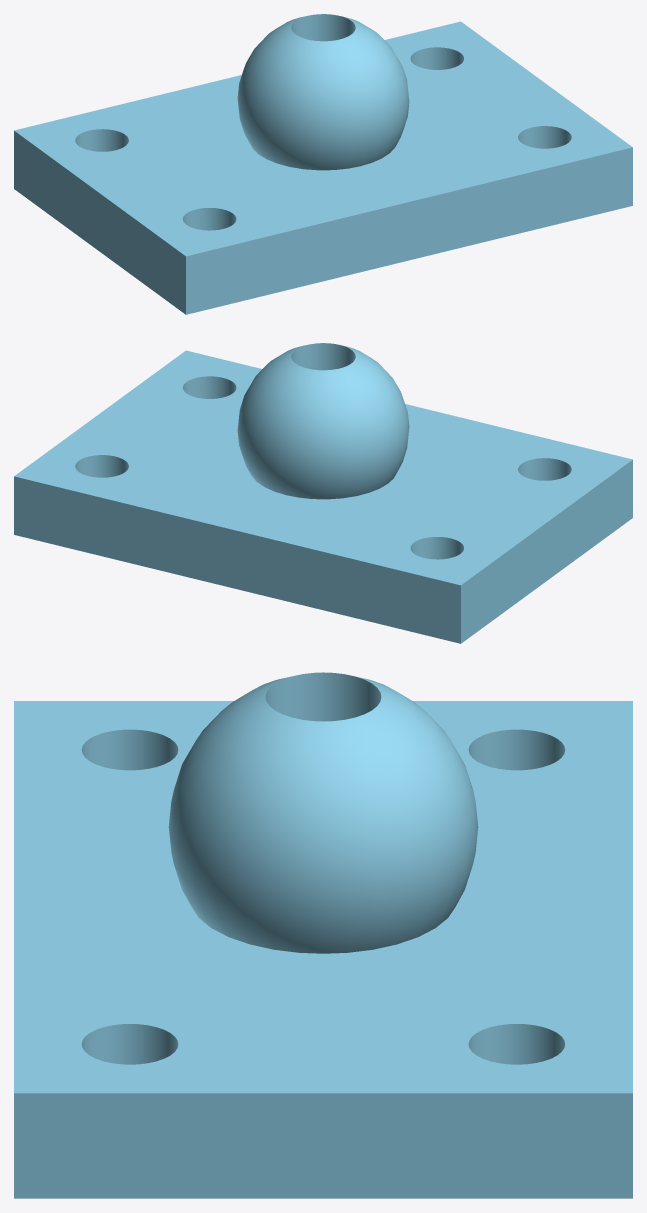
Rendered from boolean_mount_chord_0p1_angle_15.glb.
3 renders of one model, top to bottom at view 1: azimuth 30°, elevation 25°; view 2: azimuth 150°, elevation 25°; view 3: azimuth 270°, elevation 25°, orthographic. The views are drawn at different scales.
Parts seen in each view (by area): view 1: boolean_mount; view 2: boolean_mount; view 3: boolean_mount.
Boxes of the visible parts, left/top/right/bottom form: boolean_mount: left=14, top=14, right=632, bottom=314; boolean_mount: left=14, top=343, right=632, bottom=643; boolean_mount: left=14, top=672, right=632, bottom=1198.
Size of the model in its own units: 48 by 17.42 by 32.
